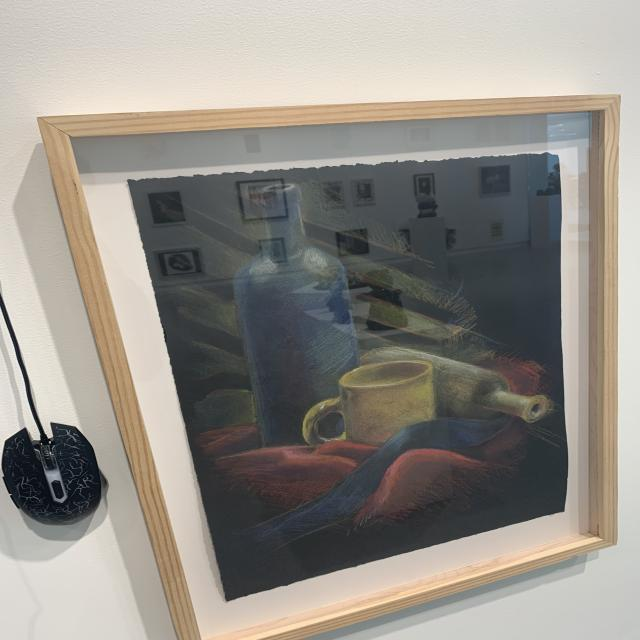Mouse: (0, 414, 111, 549)
